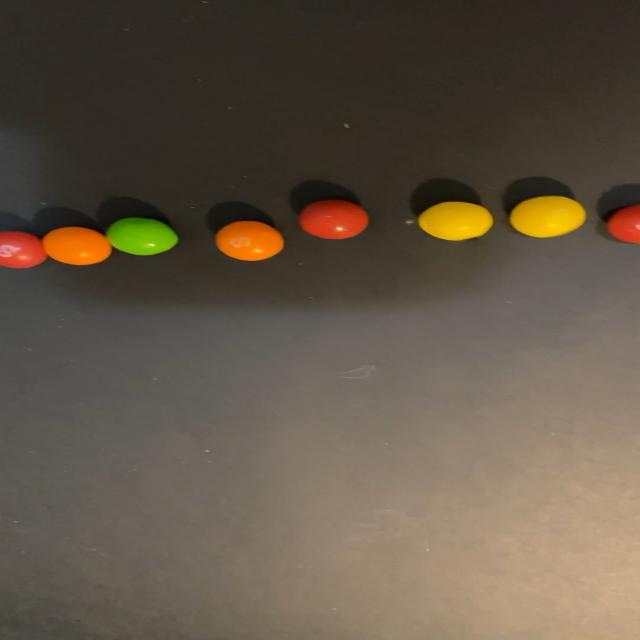smartie: (510, 195, 586, 237), (418, 201, 493, 240), (104, 217, 177, 255), (299, 199, 368, 239), (215, 221, 283, 261), (40, 227, 110, 265), (0, 231, 46, 268), (608, 204, 640, 243)
